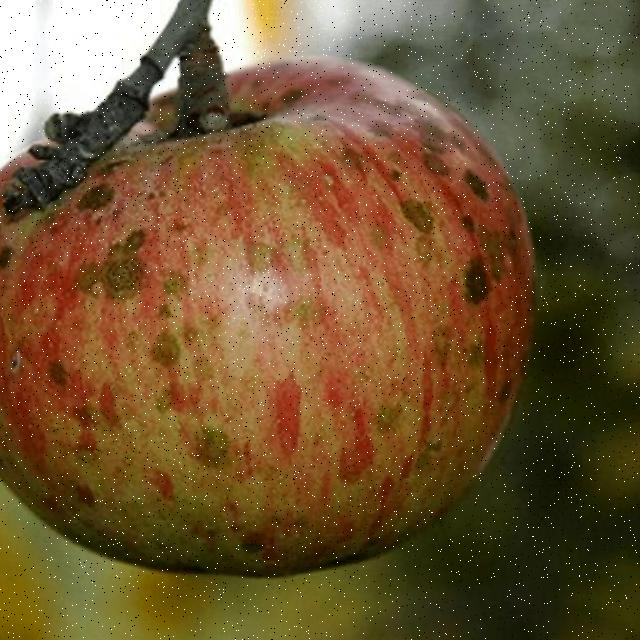BLOTCH: (3, 40, 597, 604)
